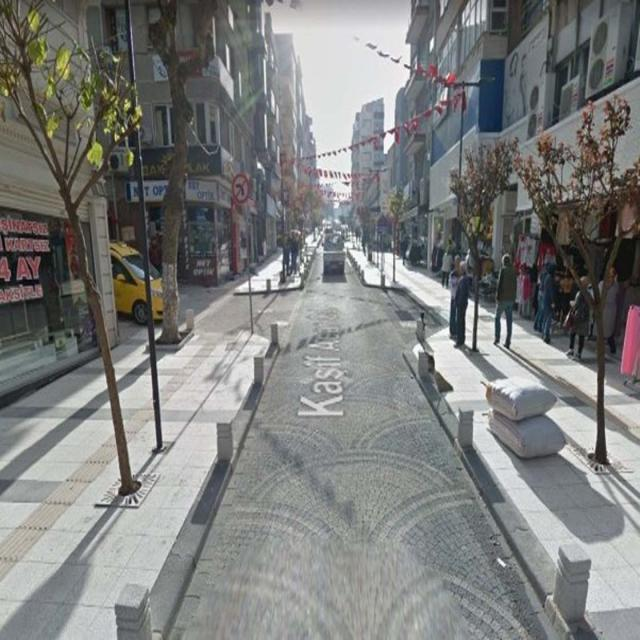soladonulmez: (232, 173, 249, 203)
